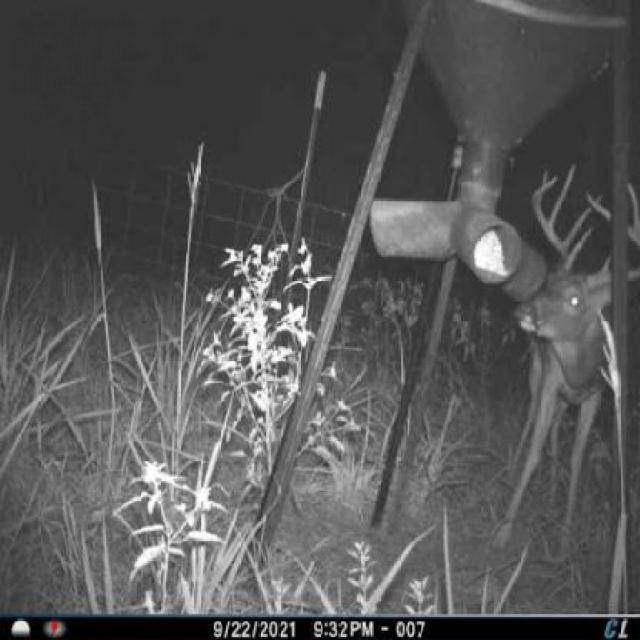Deer: (512, 159, 639, 555)
